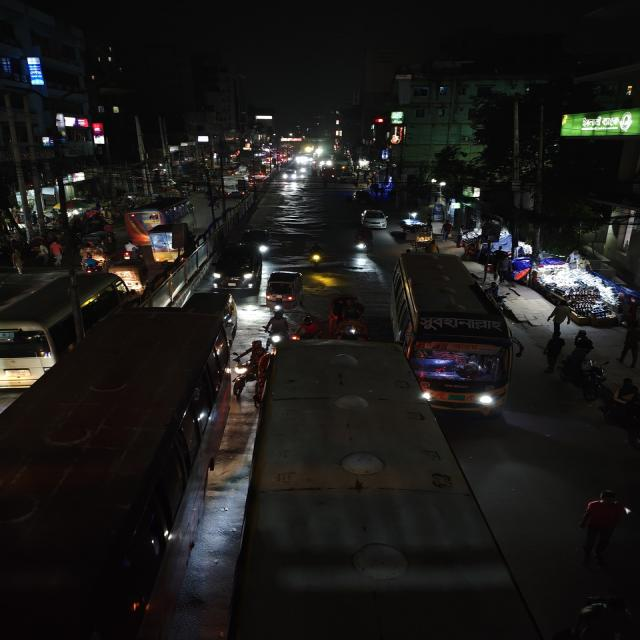bus: (238, 339, 522, 640), (0, 314, 225, 640), (389, 251, 520, 416), (0, 270, 126, 390), (121, 195, 198, 241)
car: (209, 242, 263, 288), (357, 207, 389, 231)
cng: (261, 268, 306, 316), (111, 259, 149, 291), (240, 226, 275, 253)
motorcycle: (558, 592, 639, 640), (262, 311, 290, 345), (291, 313, 322, 341), (302, 240, 326, 270), (352, 227, 371, 255)
pedestrian: (572, 487, 636, 570), (575, 361, 608, 402), (617, 320, 640, 369), (542, 334, 568, 371), (544, 304, 574, 336), (572, 330, 597, 368), (6, 238, 27, 274), (46, 237, 65, 267)
rickshaw: (326, 293, 370, 341)
truck: (146, 222, 202, 266)
